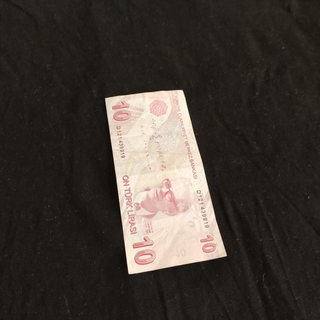10TLBack: (103, 88, 228, 276)
